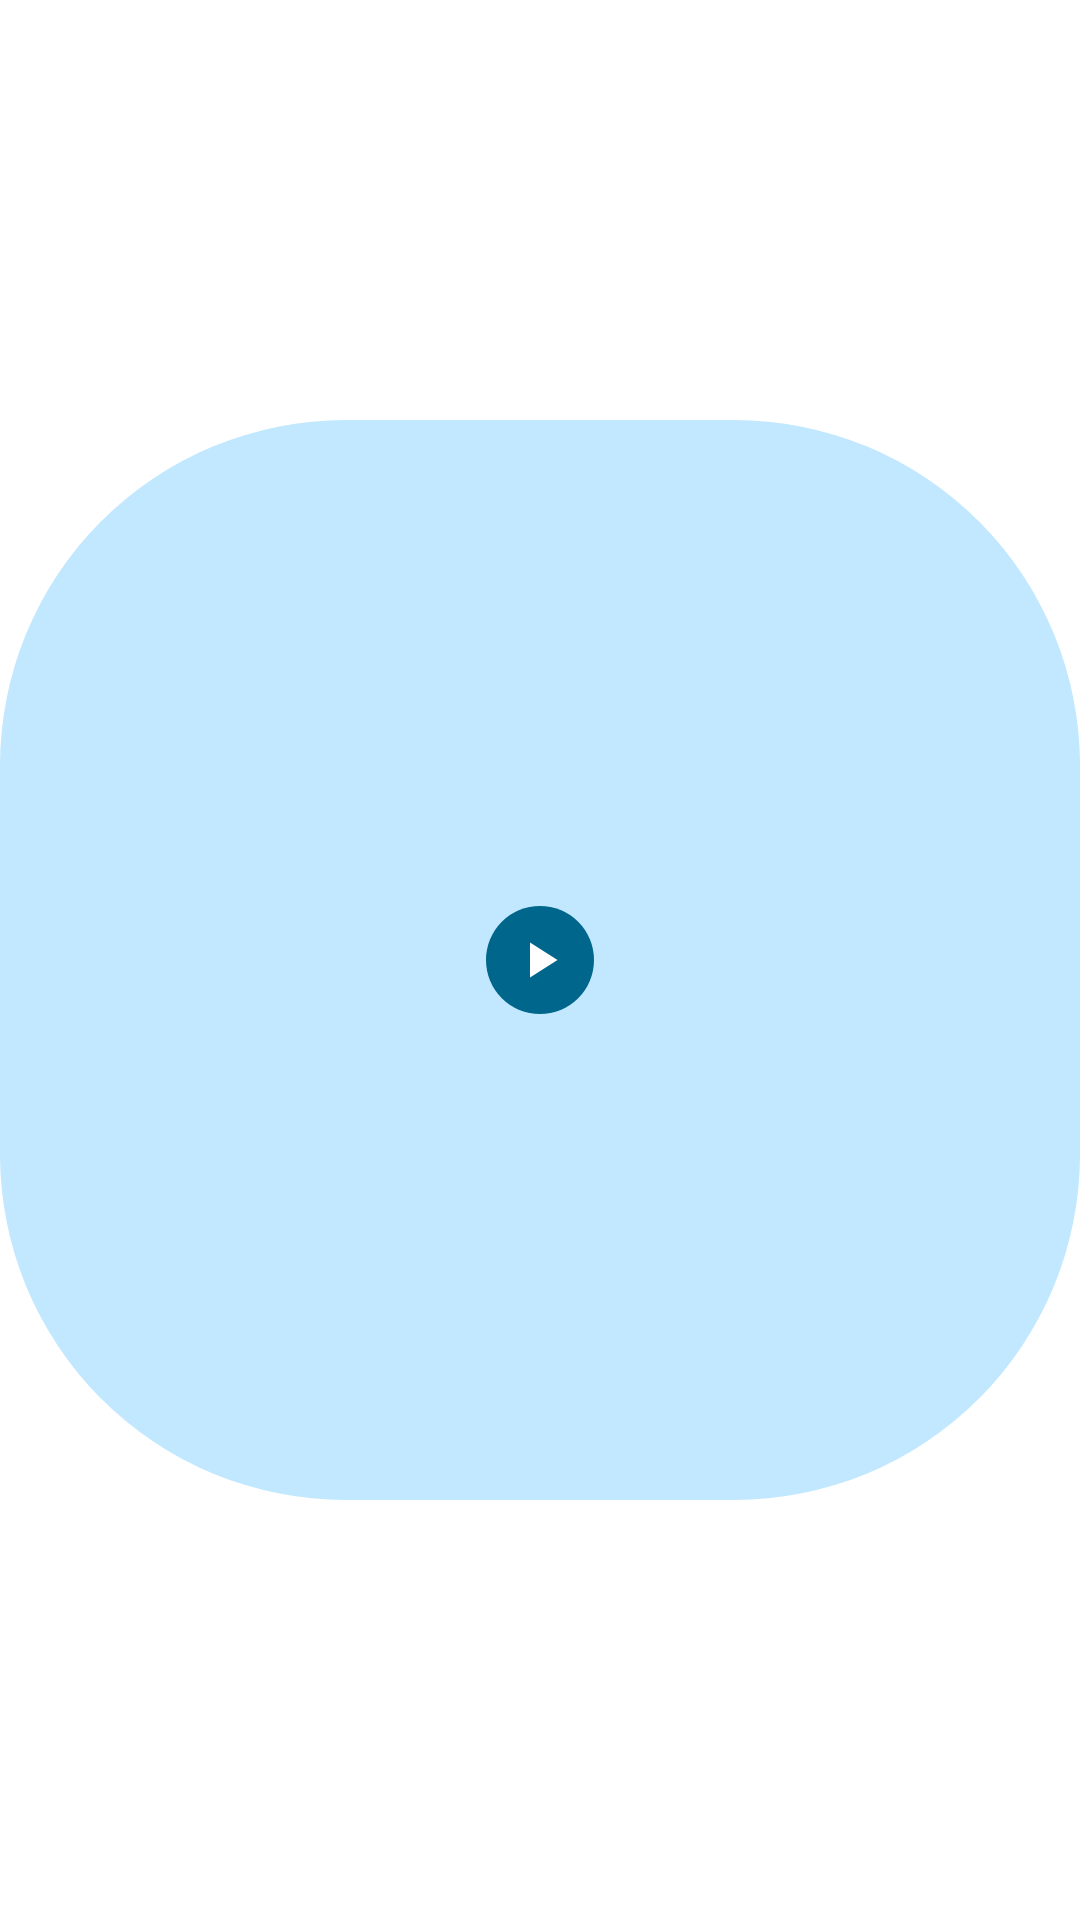

Icons on this 1080*1920 Android screen, each with its box as (x1, y1, x2, y2):
widget play: (486, 906, 594, 1014)
